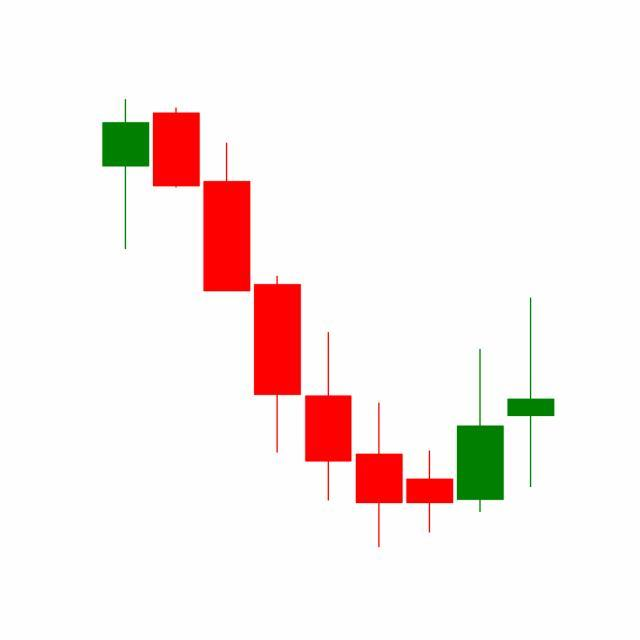Hikkake Pattern: (252, 272, 506, 549)
